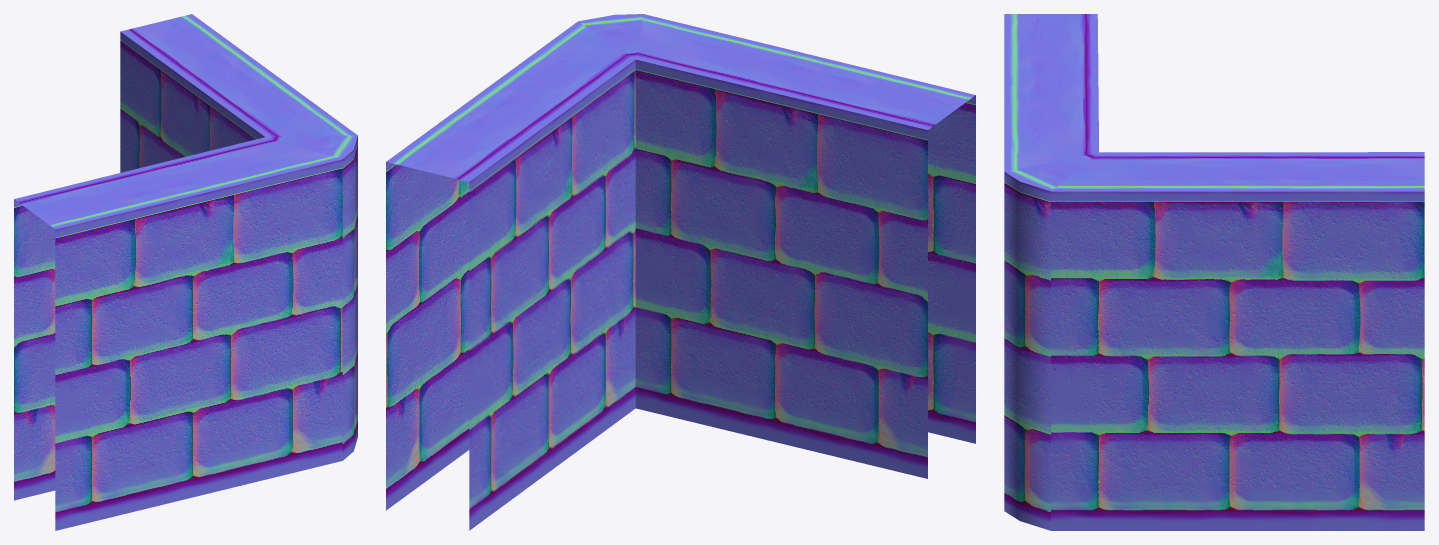
Rendered from WallWall_L.fbx.
3 renders of one model, left to right at view 1: azimuth 30°, elevation 25°; view 2: azimuth 150°, elevation 25°; view 3: azimuth 270°, elevation 25°, orthographic. The views are drawn at different scales.
Visible parts, largest first — view 1: Wall_L; view 2: Wall_L; view 3: Wall_L.
Boxes of the visible parts, box(x1,y1,x2,y2) form: Wall_L: box(14, 14, 357, 530); Wall_L: box(386, 14, 975, 530); Wall_L: box(1004, 14, 1424, 530).
Size of the model in its own units: 450 by 401 by 450.
Materials: 1 (1 with a texture image).
